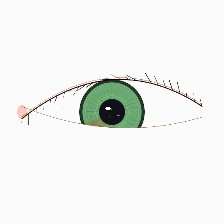pinguecula_lesion: (140, 92, 178, 122)
